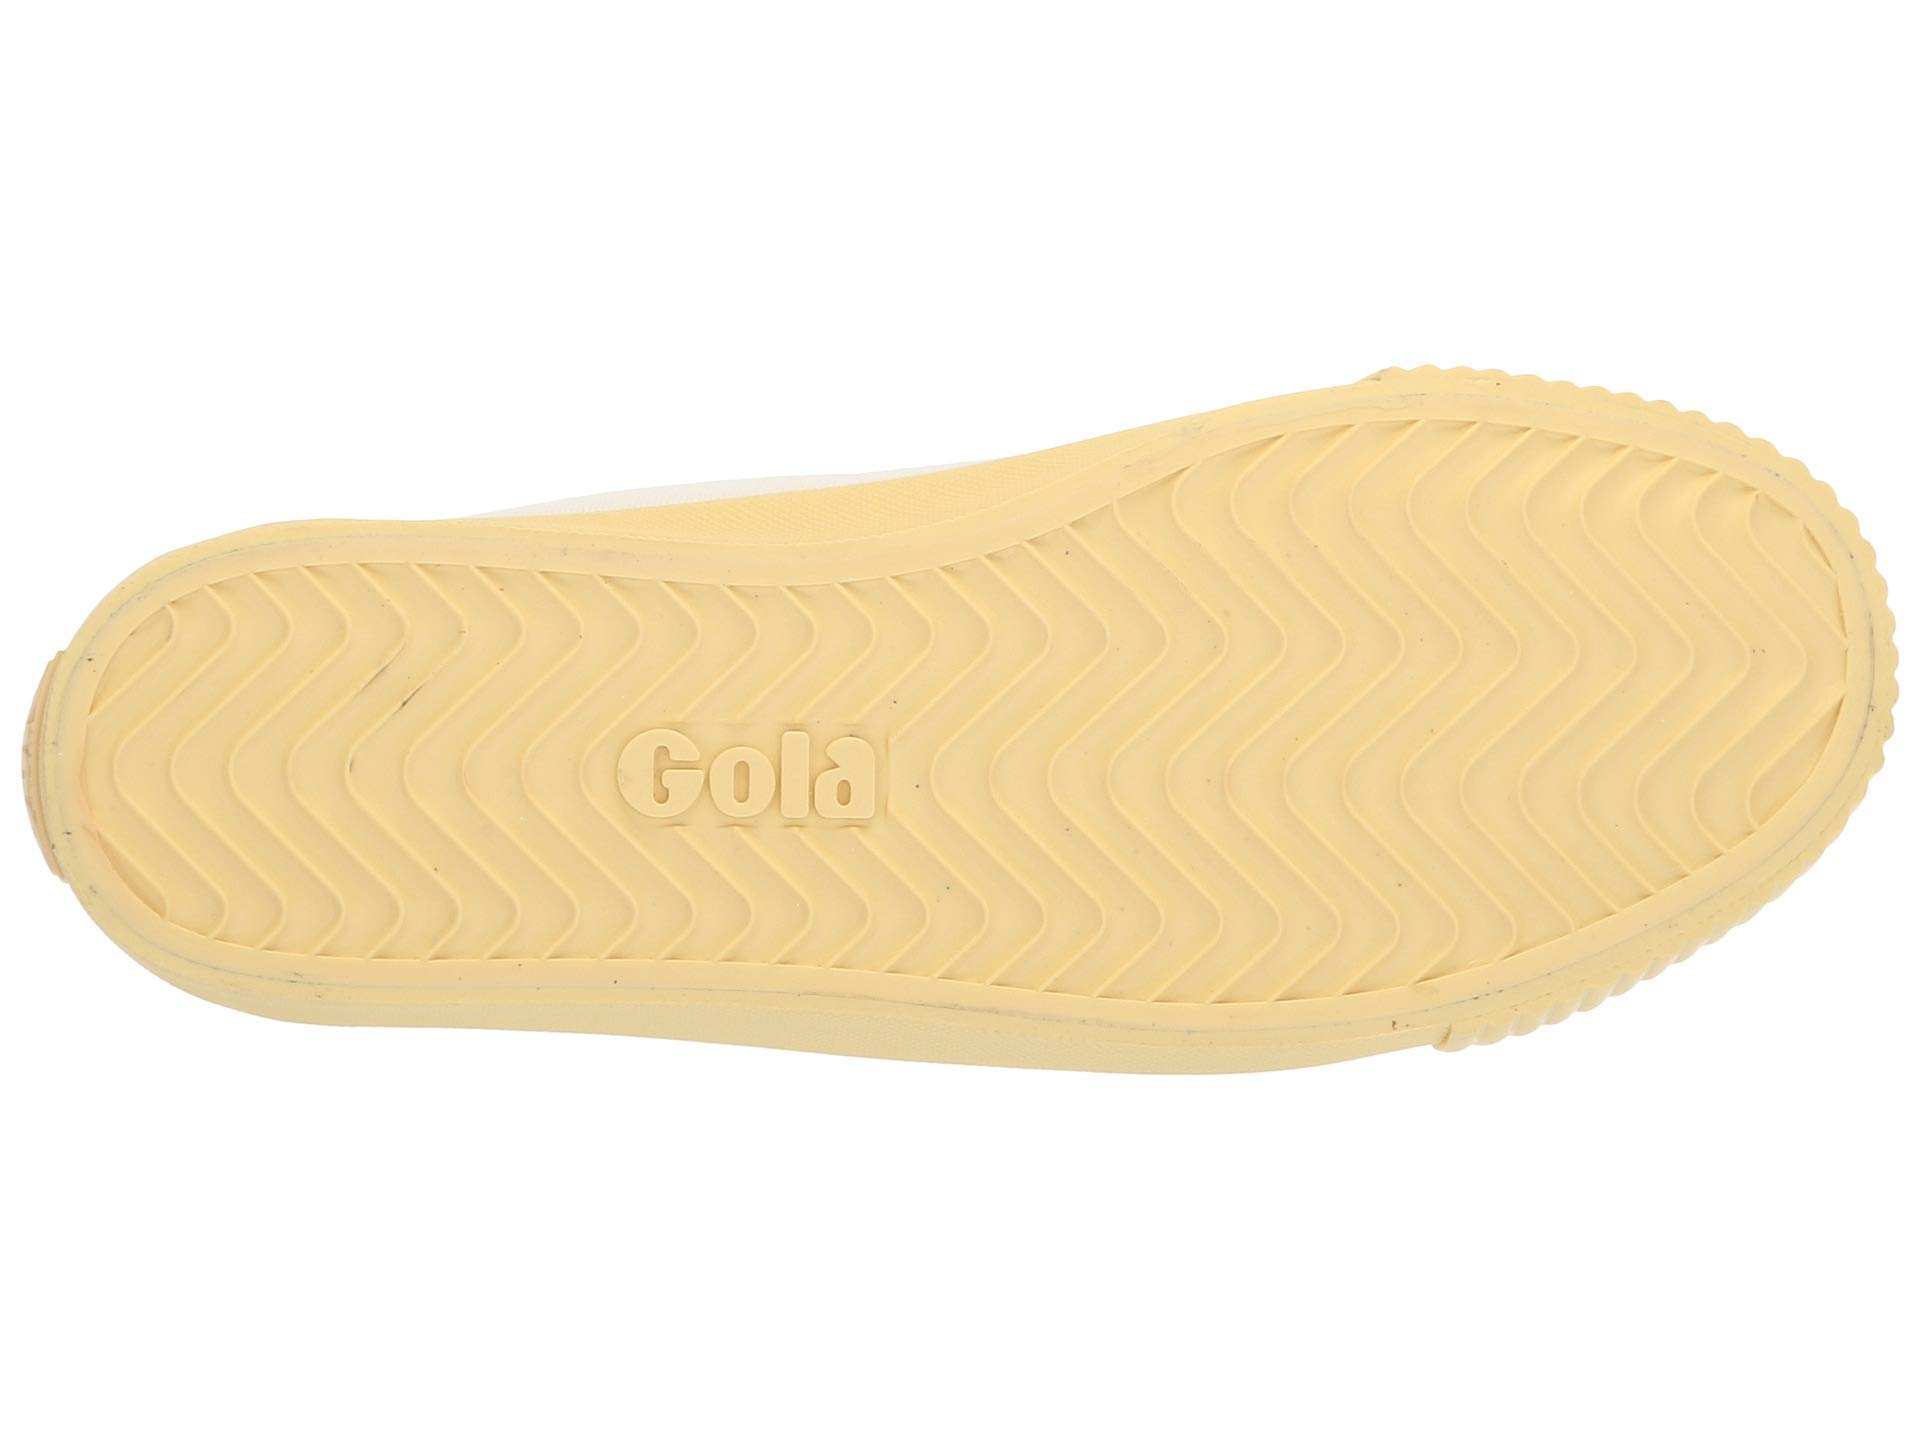chevron: (1102, 523, 1507, 938), (543, 640, 989, 945), (125, 634, 446, 944), (1528, 479, 1828, 809)
circle: (543, 640, 989, 945)
quad: (543, 640, 989, 945)
text: (543, 640, 989, 945)
